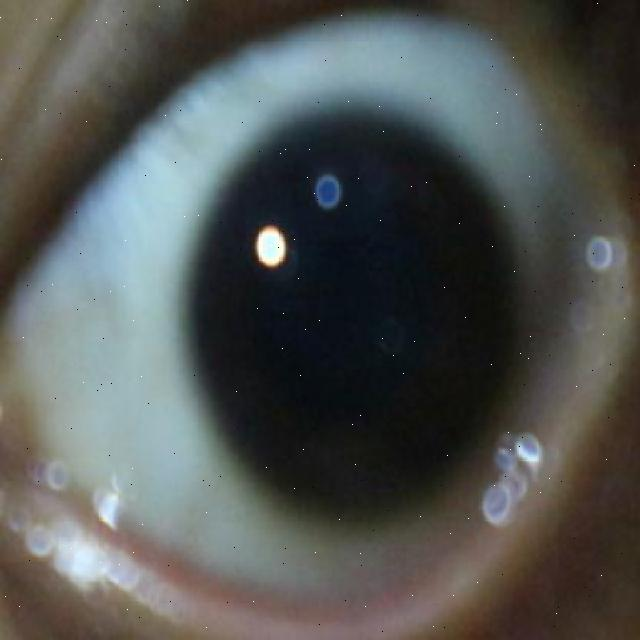Normal: (197, 115, 526, 526)
